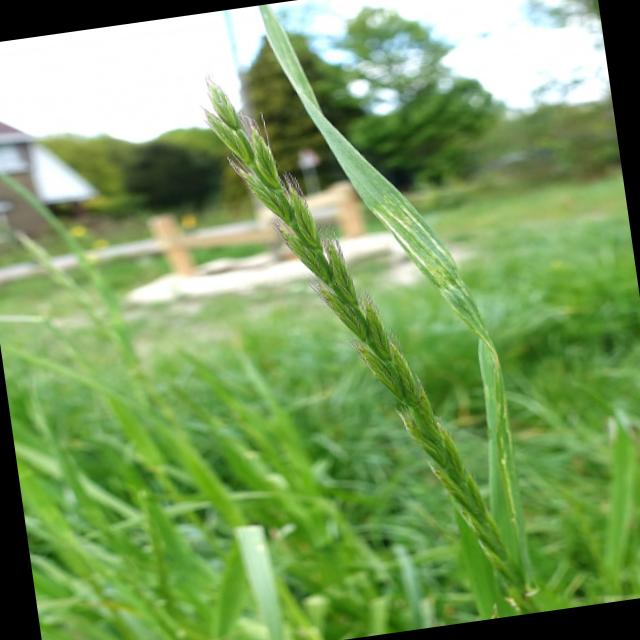Lolium: (185, 0, 544, 640)
